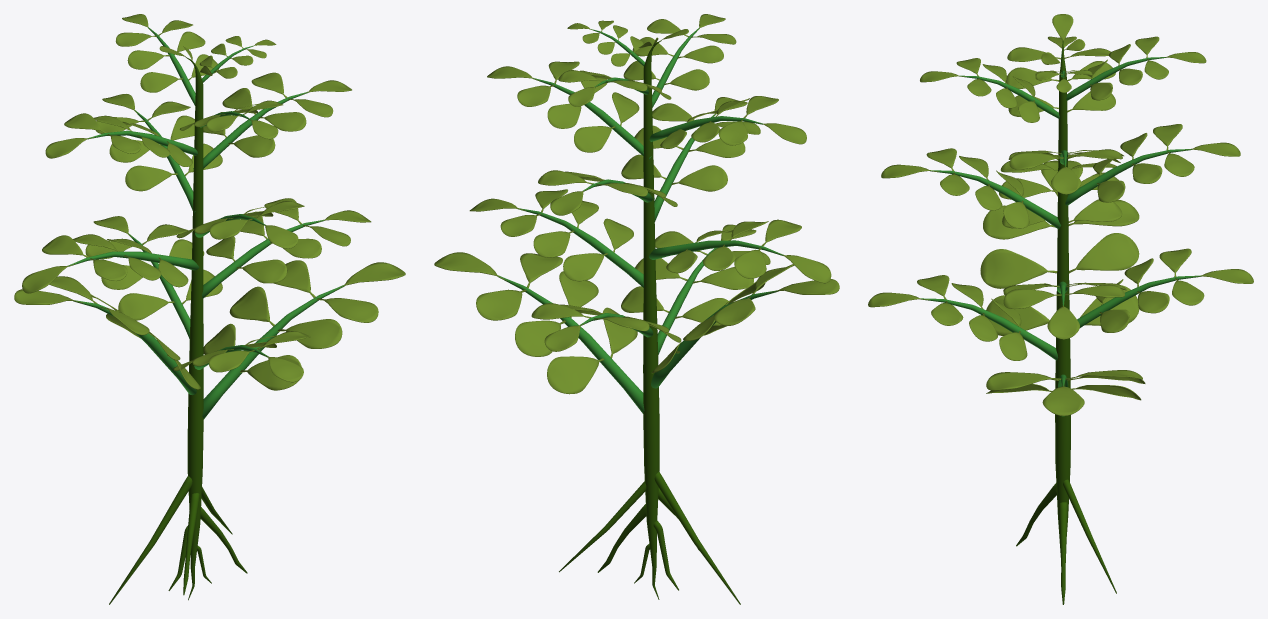
The model's file is POTATOPLANT.fbx.
The picture shows the model from 3 angles, left to right: view 1: azimuth 30°, elevation 25°; view 2: azimuth 150°, elevation 25°; view 3: azimuth 270°, elevation 25°; orthographic projection. The views are drawn at different scales.
Visible parts, largest first — view 1: Leaves, Root Leaves, Root; view 2: Leaves, Root Leaves, Root; view 3: Leaves, Root Leaves, Root.
Boxes of the visible parts, x1,y1,x2,y2 form: Leaves: (14,14,405,419); Root Leaves: (185,57,203,600); Root: (109,476,247,604); Leaves: (434,14,839,413); Root Leaves: (643,40,661,599); Root: (559,472,740,604); Leaves: (868,14,1253,416); Root Leaves: (1055,40,1070,552); Root: (1016,479,1116,604).
Bounding box in the file's own units: 111 × 153 × 95.31.
